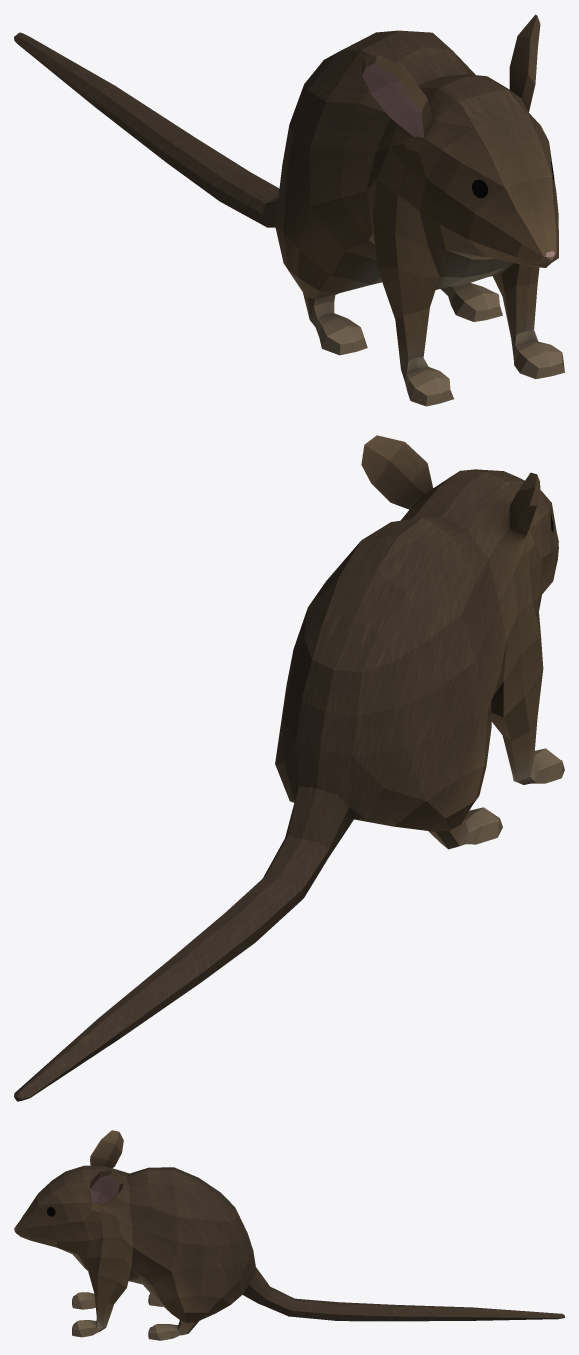
File: 117bd065-4f55-4557-913a-d99070eaa09a.glb
3 renders of one model, top to bottom at view 1: azimuth 30°, elevation 25°; view 2: azimuth 150°, elevation 25°; view 3: azimuth 270°, elevation 25°, orthographic. The views are drawn at different scales.
Parts seen in each view (by area): view 1: Woodrats_Mesh; view 2: Woodrats_Mesh; view 3: Woodrats_Mesh.
Part boxes in pixels (<box>): Woodrats_Mesh: <box>14,14,564,406</box>; Woodrats_Mesh: <box>14,435,564,1101</box>; Woodrats_Mesh: <box>14,1130,564,1340</box>.
Size of the model in its own units: 0.7925 by 1.34 by 3.97.
Materials: 1 (1 with a texture image).
